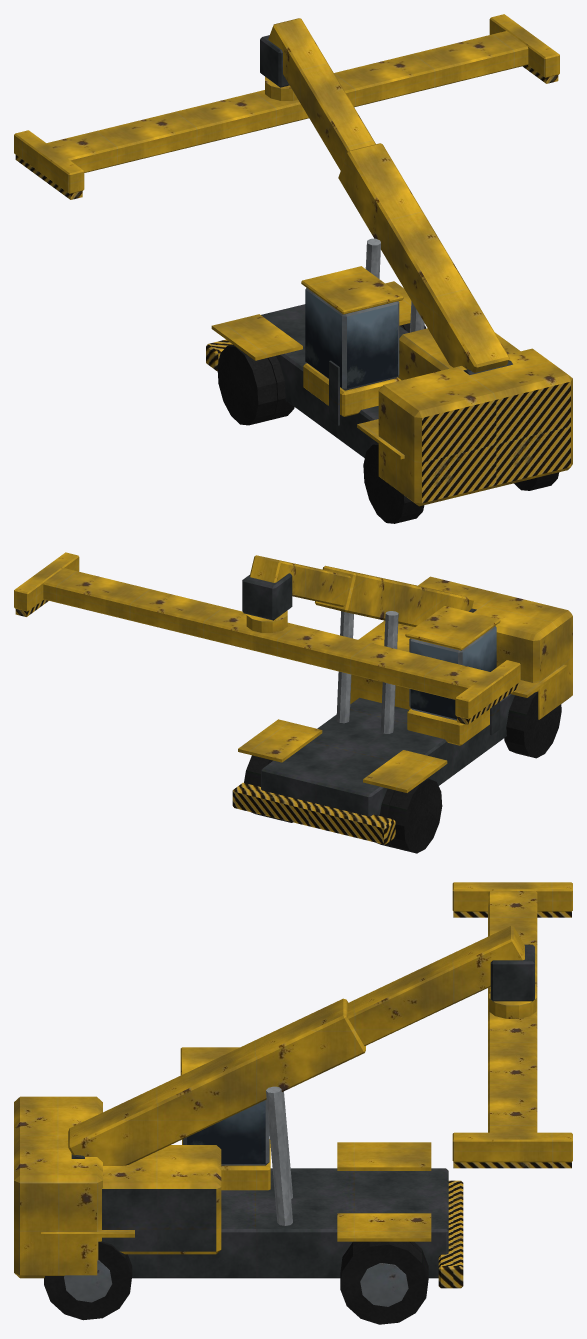
The model's file is c_reach.glb.
3 views of the same model, one above another, from view 1: azimuth 30°, elevation 25°; view 2: azimuth 150°, elevation 25°; view 3: azimuth 270°, elevation 25° (orthographic). The views are drawn at different scales.
Visible parts, largest first — view 1: body|props; view 2: body|props; view 3: body|props.
Part boxes in pixels (box(x1,y1,x2,y2)): body|props: box(14, 14, 572, 523); body|props: box(14, 552, 572, 853); body|props: box(14, 882, 572, 1324).
Bounding box in the file's own units: 12.4 × 8 × 11.32.
1 material, 1 textured.
